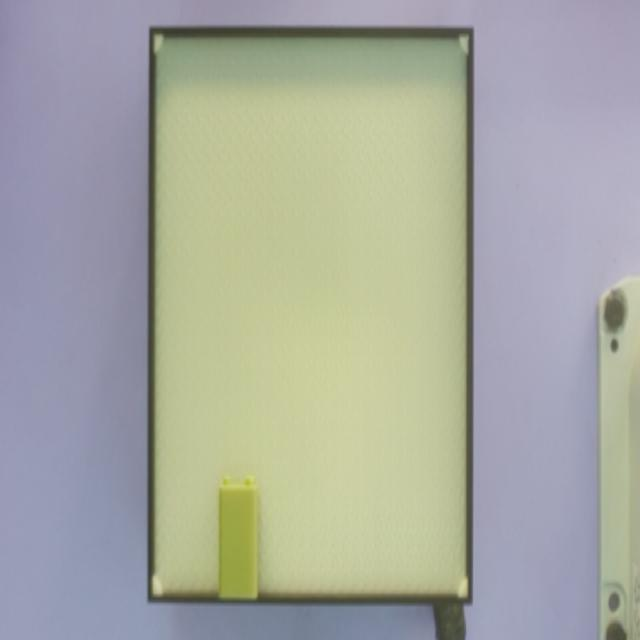Bateria: (219, 486, 258, 599)
Mesa: (148, 26, 474, 605)
Pestana: (244, 476, 253, 485), (223, 476, 231, 485)
